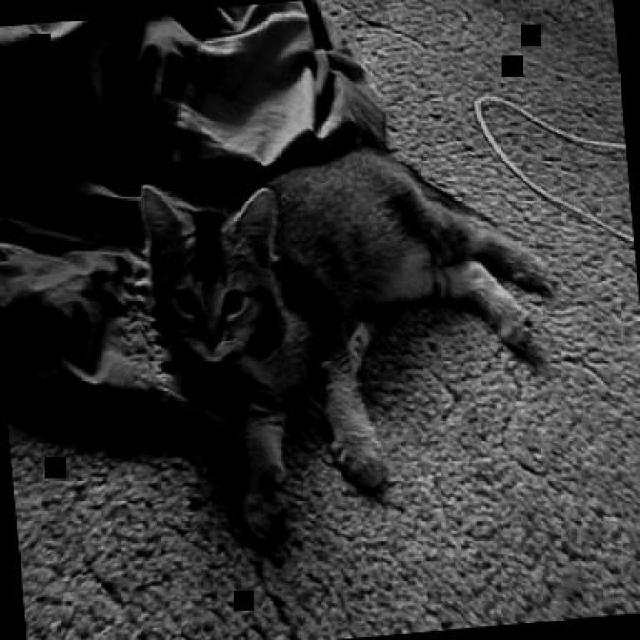cat: (135, 128, 573, 550)
